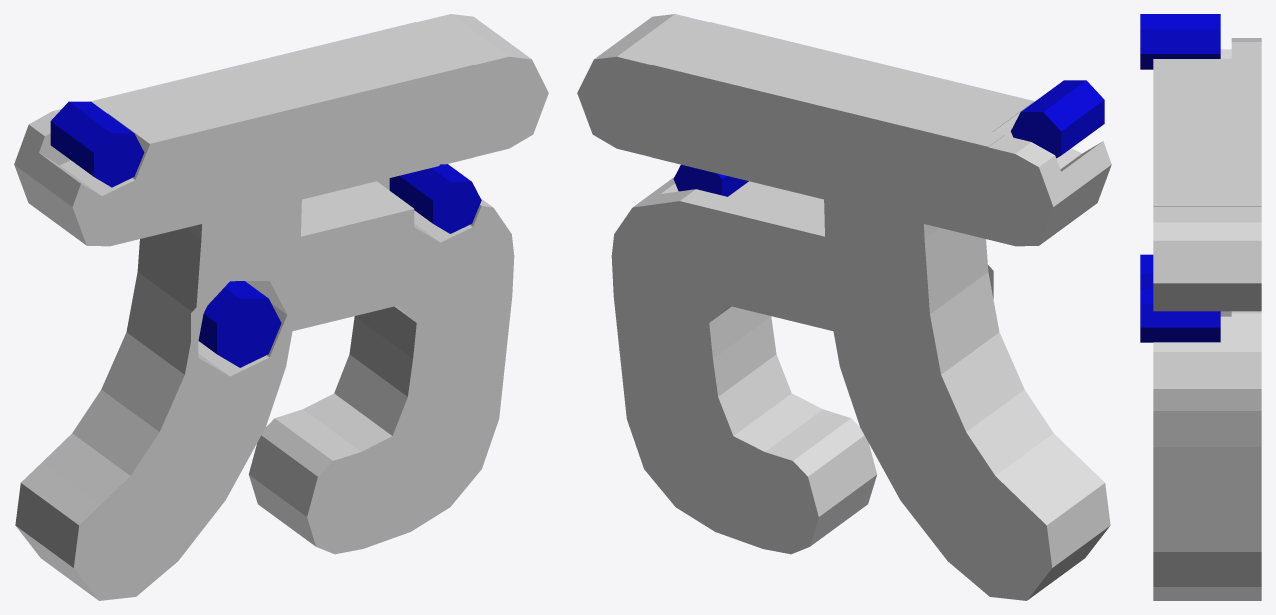
Rendered from Ch_Lite_China_万_01.fbx.
The picture shows the model from 3 angles, left to right: view 1: azimuth 30°, elevation 25°; view 2: azimuth 150°, elevation 25°; view 3: azimuth 270°, elevation 25°; orthographic projection. The views are drawn at different scales.
Visible parts, largest first — view 1: sphere1; view 2: sphere1; view 3: sphere1.
Part boxes in pixels (x1,y1,x2,y2): sphere1: (14, 14, 548, 600); sphere1: (577, 14, 1111, 600); sphere1: (1140, 14, 1261, 600).
Size of the model in its own units: 0.9419 by 0.914 by 0.2242.
